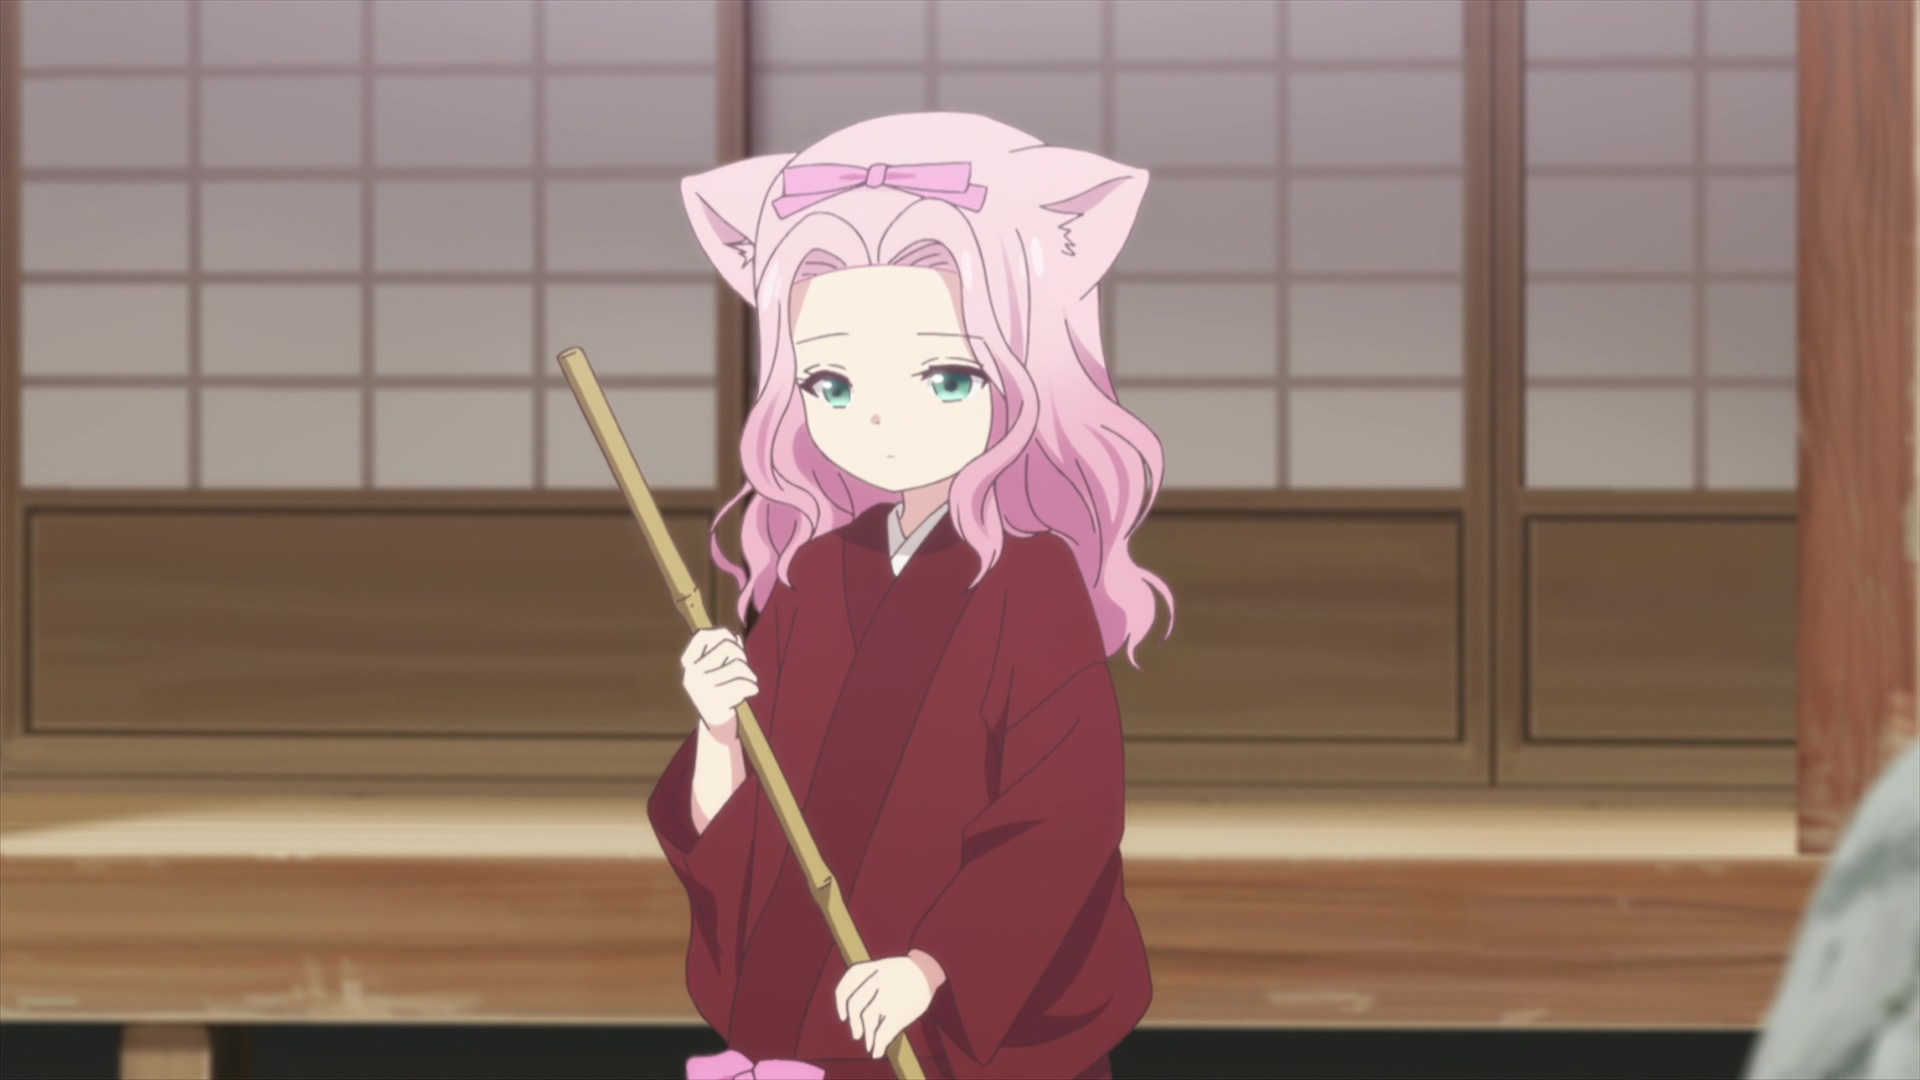莲: (646, 109, 1178, 1080)
